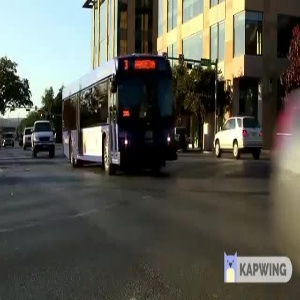bus: (57, 56, 186, 180)
suv: (205, 114, 266, 157)
truck: (28, 118, 57, 158)
